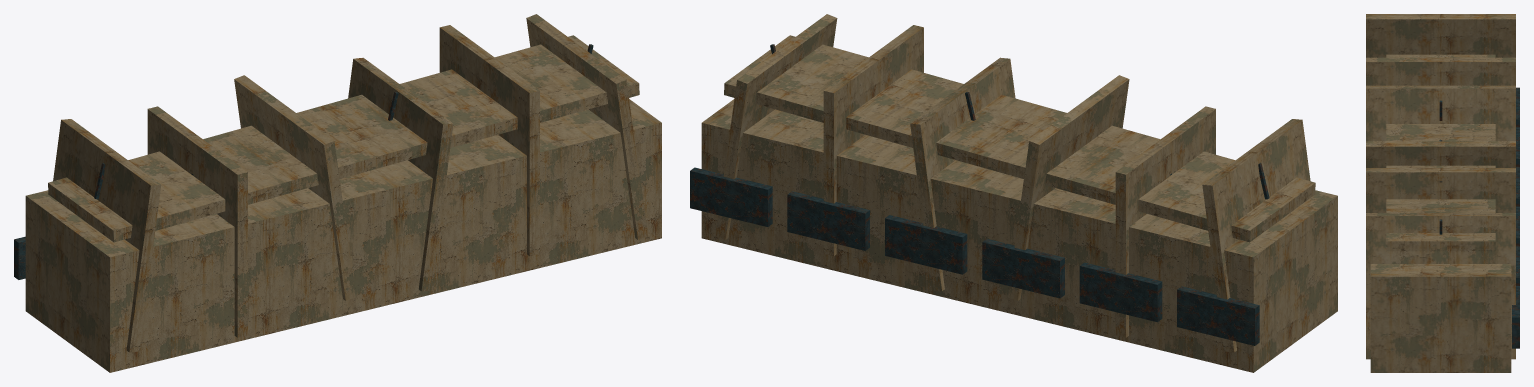
File: city-long-collapse.glb
3 renders of one model, left to right at view 1: azimuth 30°, elevation 25°; view 2: azimuth 150°, elevation 25°; view 3: azimuth 270°, elevation 25°, orthographic. The views are drawn at different scales.
Visible parts, largest first — view 1: city-long-collapse-concrete, city-long-collapse-steel; view 2: city-long-collapse-concrete, city-long-collapse-steel; view 3: city-long-collapse-concrete, city-long-collapse-steel.
Part boxes in pixels (left/top/right/bottom): city-long-collapse-concrete: left=25, top=14, right=661, bottom=372; city-long-collapse-steel: left=14, top=44, right=593, bottom=279; city-long-collapse-concrete: left=701, top=14, right=1337, bottom=372; city-long-collapse-steel: left=690, top=44, right=1269, bottom=345; city-long-collapse-concrete: left=1366, top=14, right=1515, bottom=372; city-long-collapse-steel: left=1439, top=62, right=1519, bottom=348.
Bounding box in the file's own units: 17.4 × 5.3 × 4.93.
2 materials, 2 textured.
